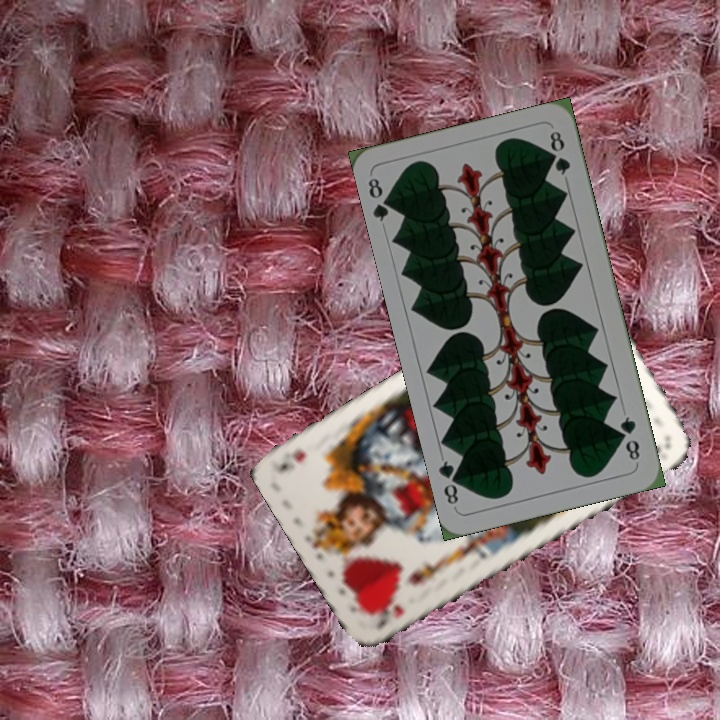G8: (363, 174, 397, 224), (616, 412, 643, 463)
HK: (377, 600, 407, 633)
